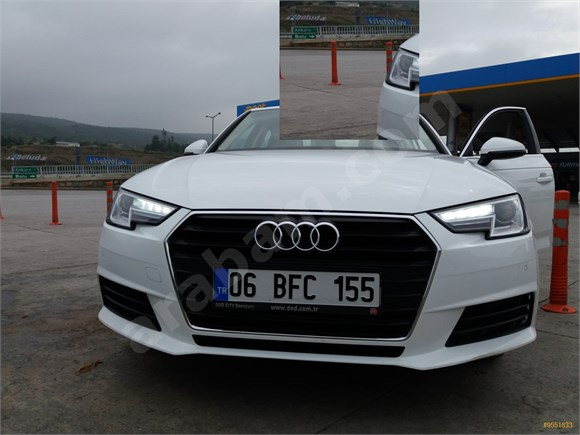audi: (243, 219, 344, 256)
